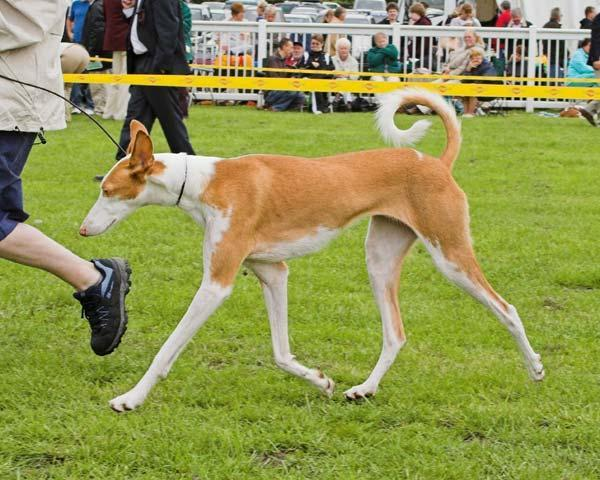Ibizan_hound: (75, 86, 547, 414)
